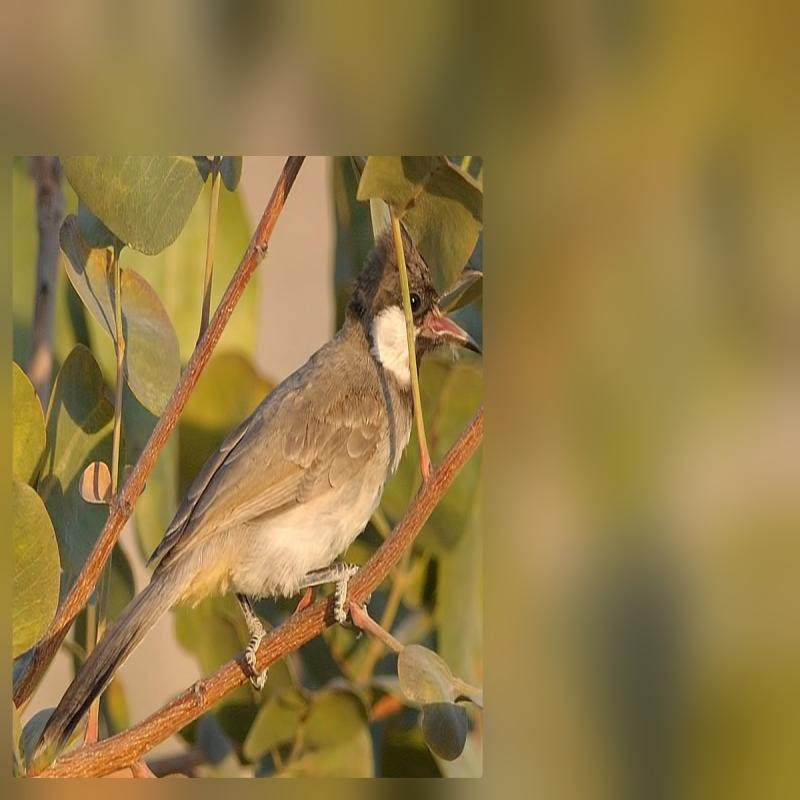white-eared bulbul: (22, 206, 480, 775)
